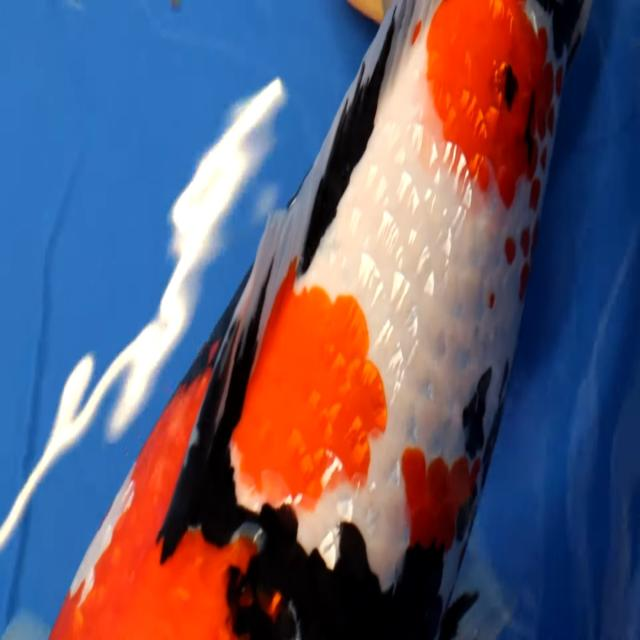Showa: (46, 0, 592, 638)
